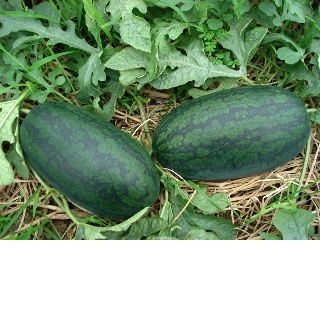dua_hau: (17, 100, 161, 221), (152, 83, 311, 179)
